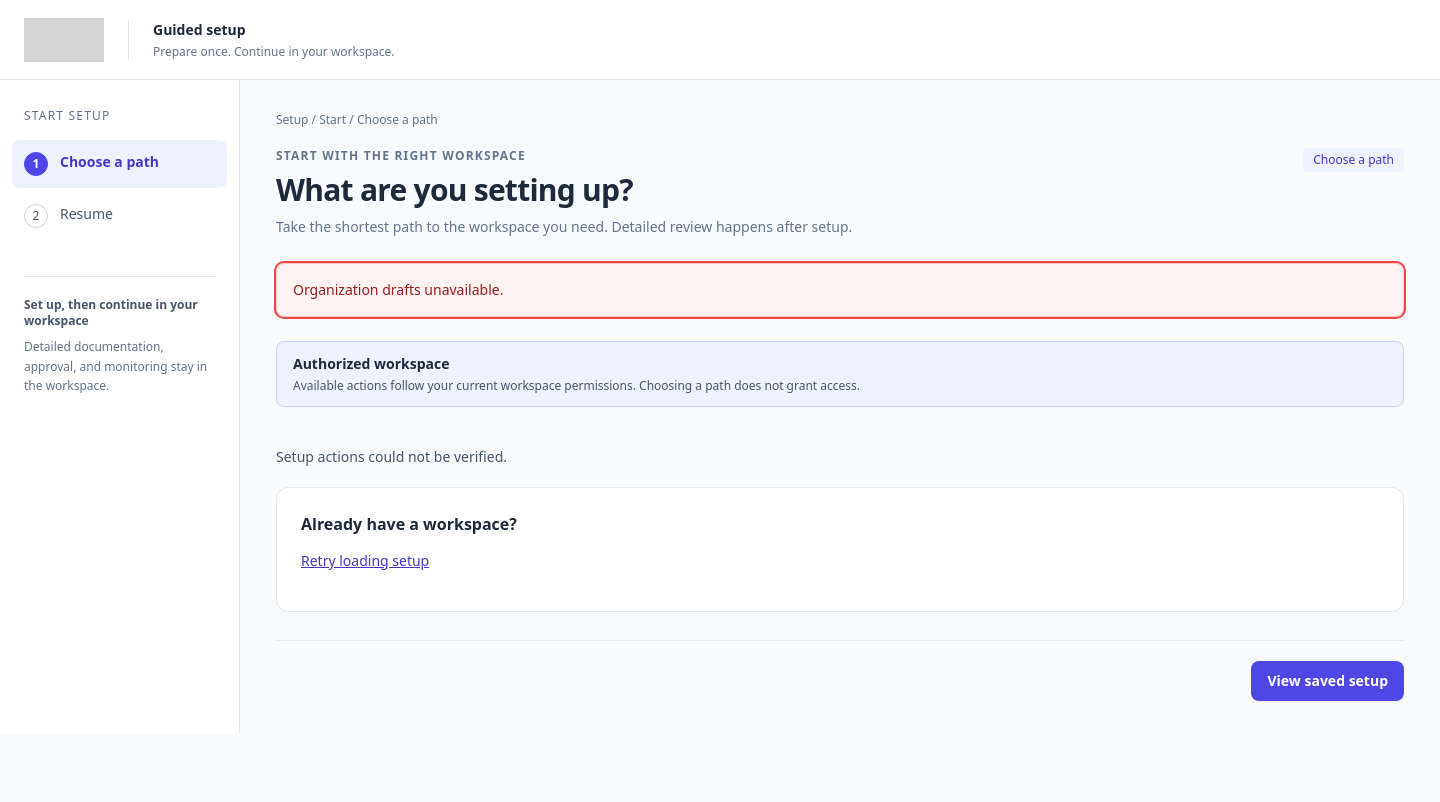
Scenario: setup entry canonical readers › reports an unavailable read and recovers explicitly without an empty-success state
Expected: the message reads "Organization drafts unavailable.", left=293, top=280, right=503, bottom=299
Expected: the link "Set up organization" is not shown
Click the button "Retry loading setup": (365, 561) left=301, top=551, right=429, bottom=571
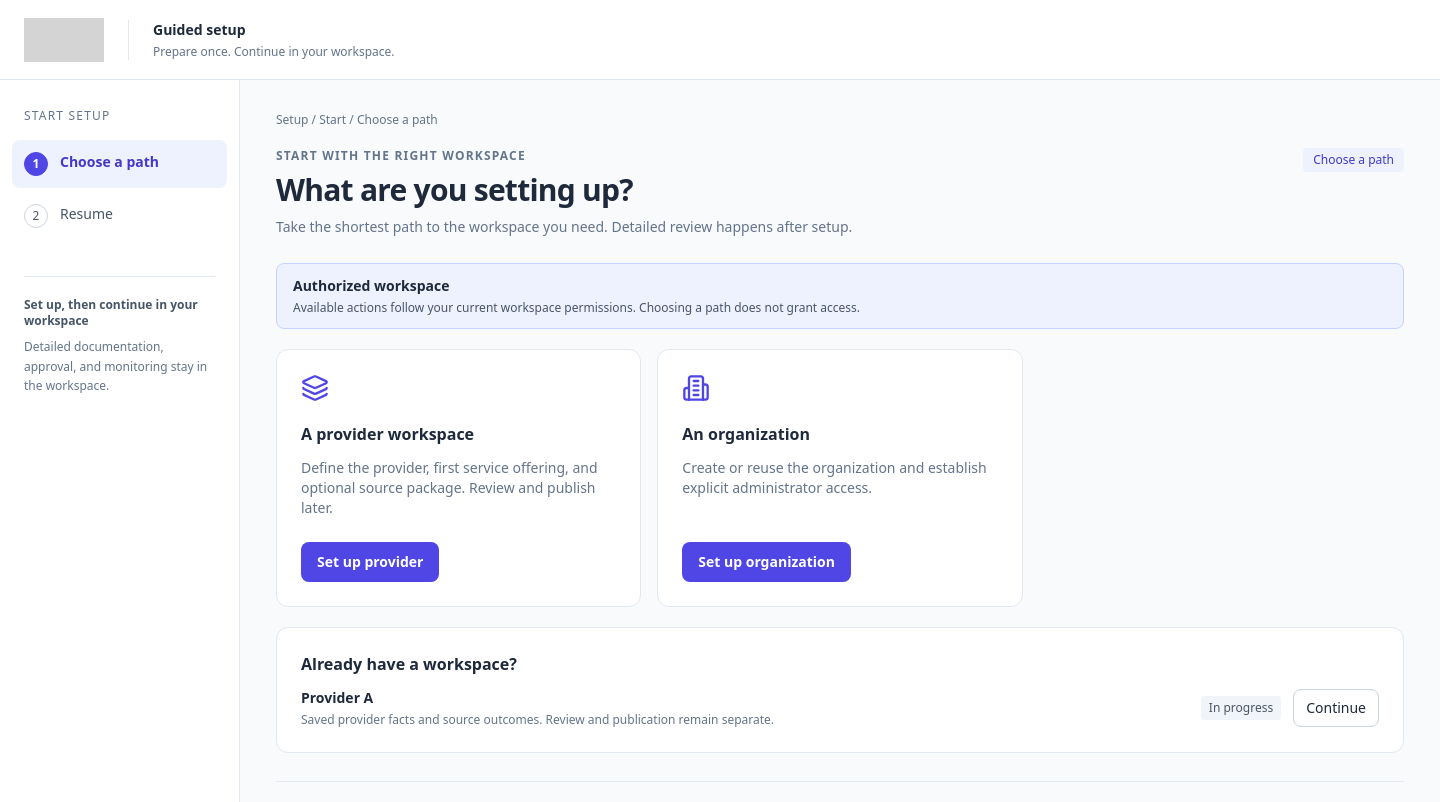
Expected: the link with aria-label "Continue Provider A" is shown, left=1293, top=689, right=1379, bottom=727
Expected: the message "Organization drafts unavailable." is gone
